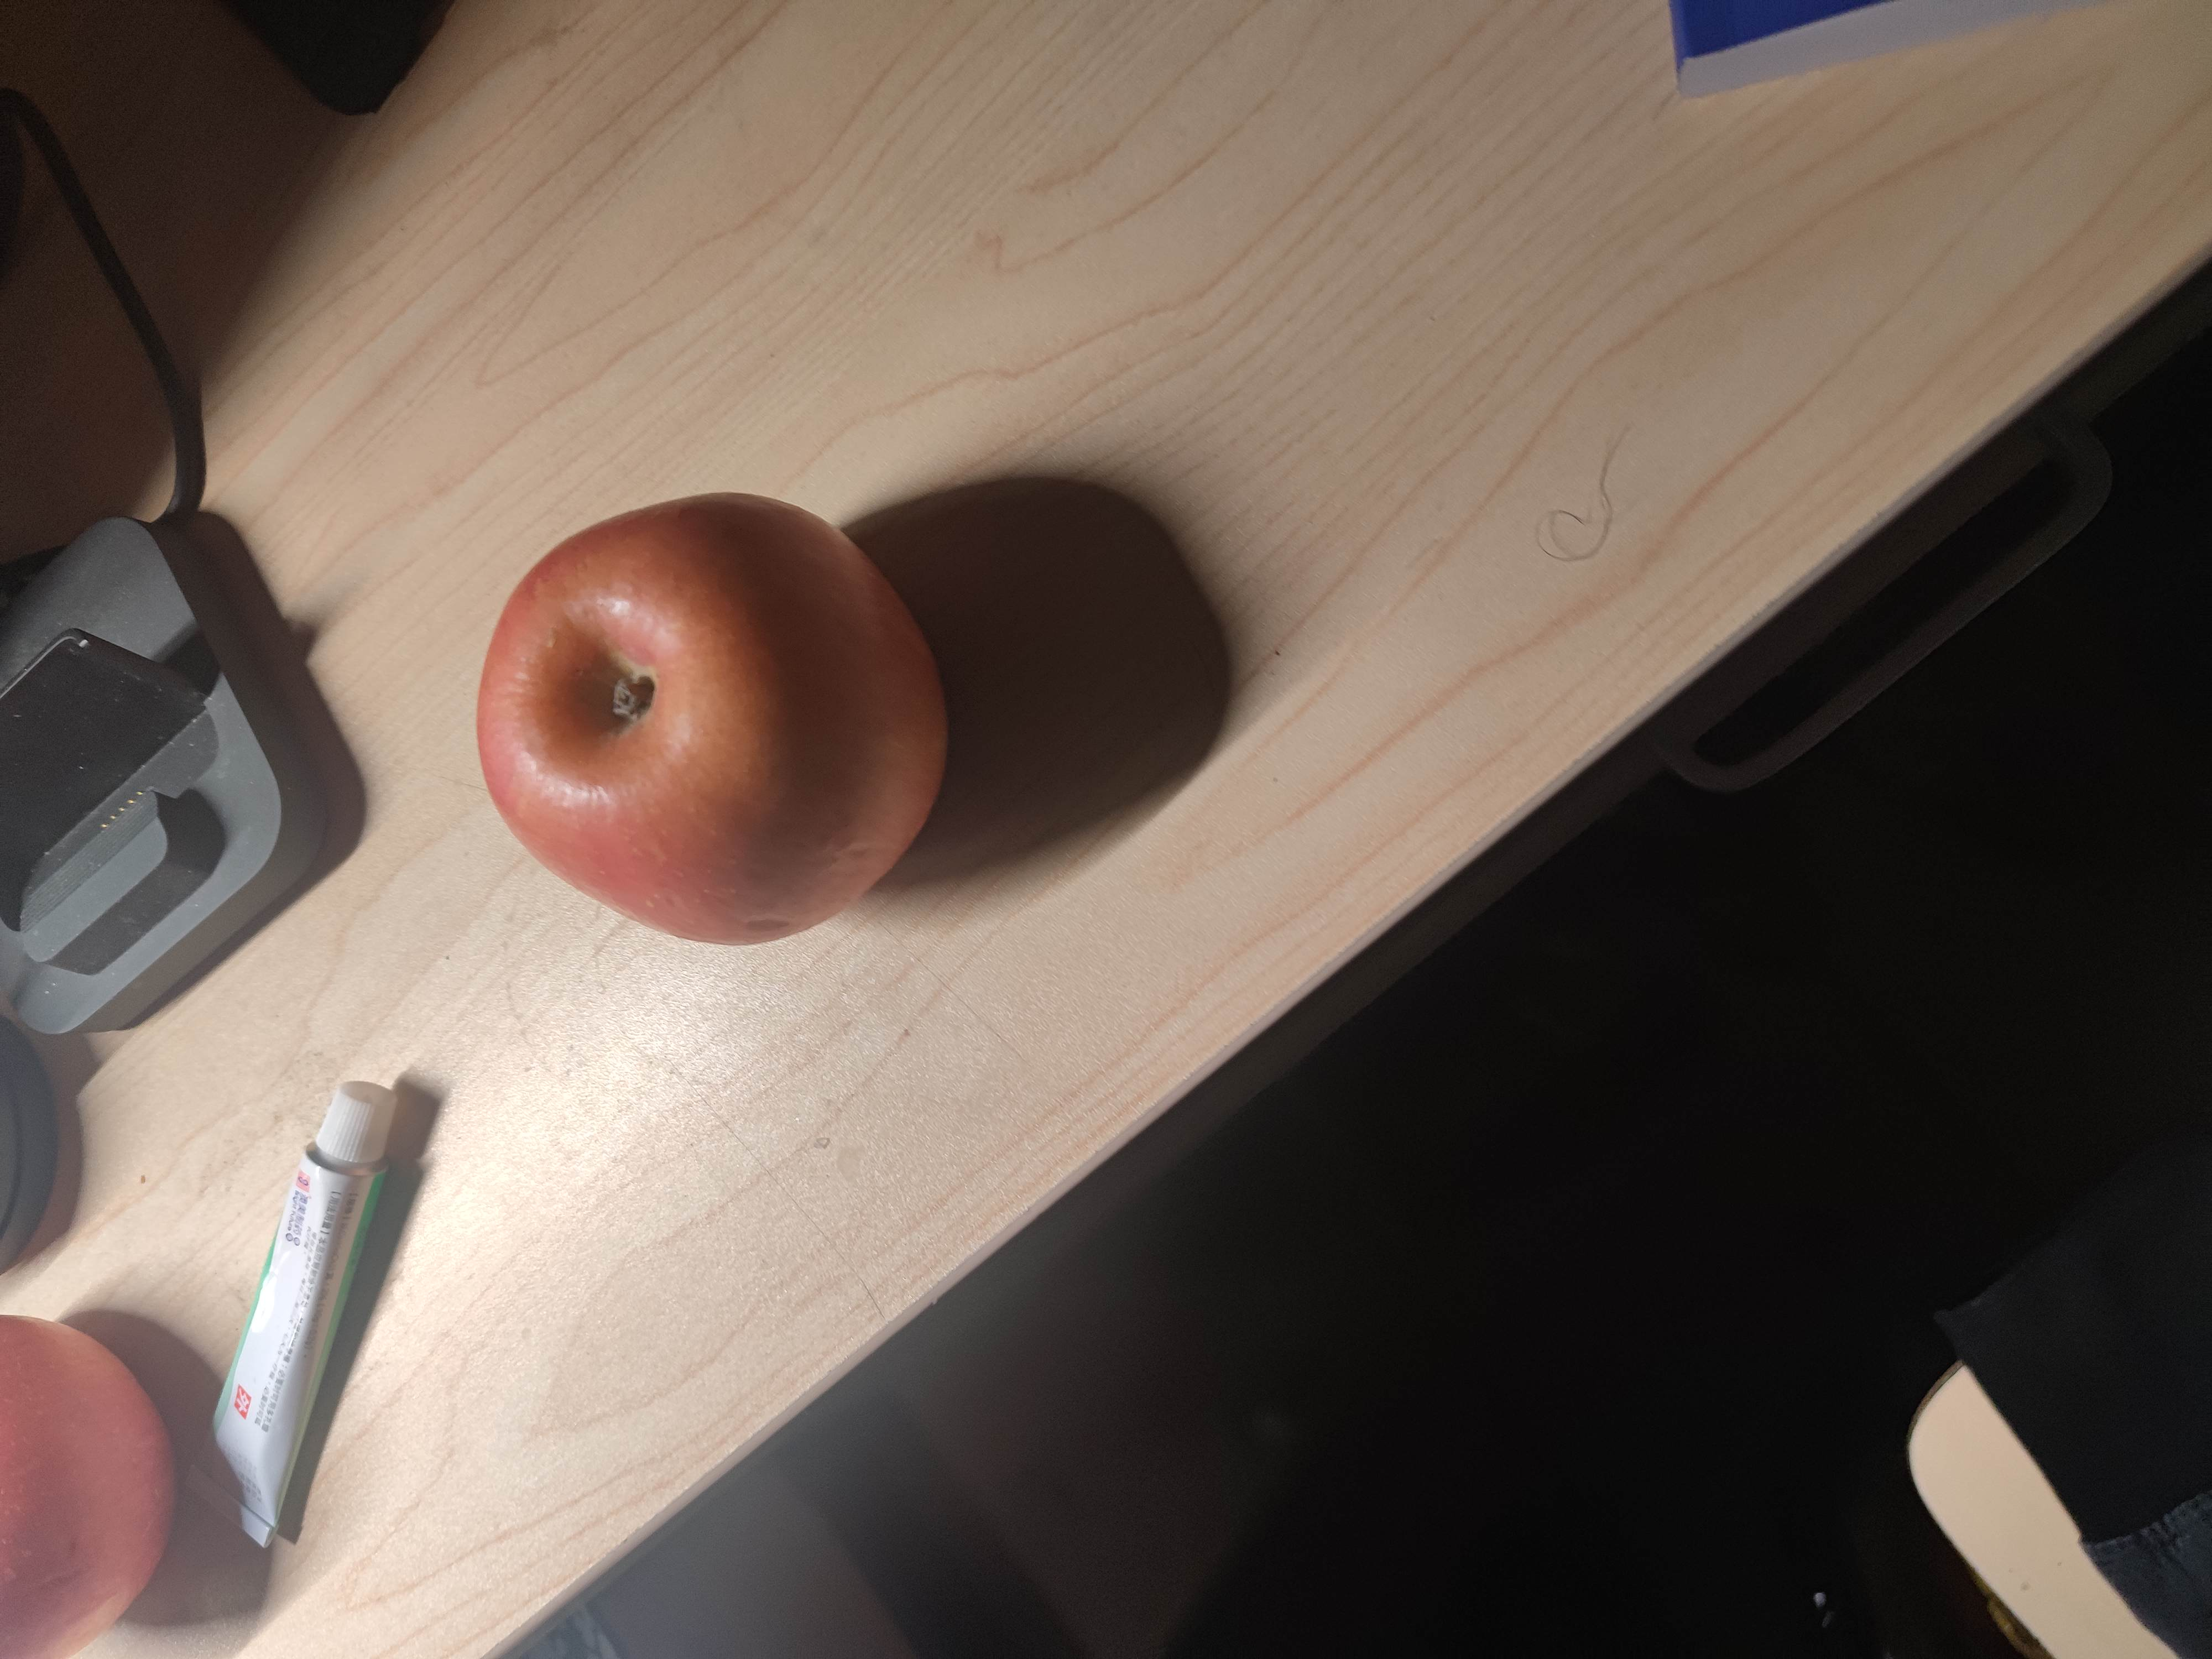apple: (467, 488, 958, 953)
